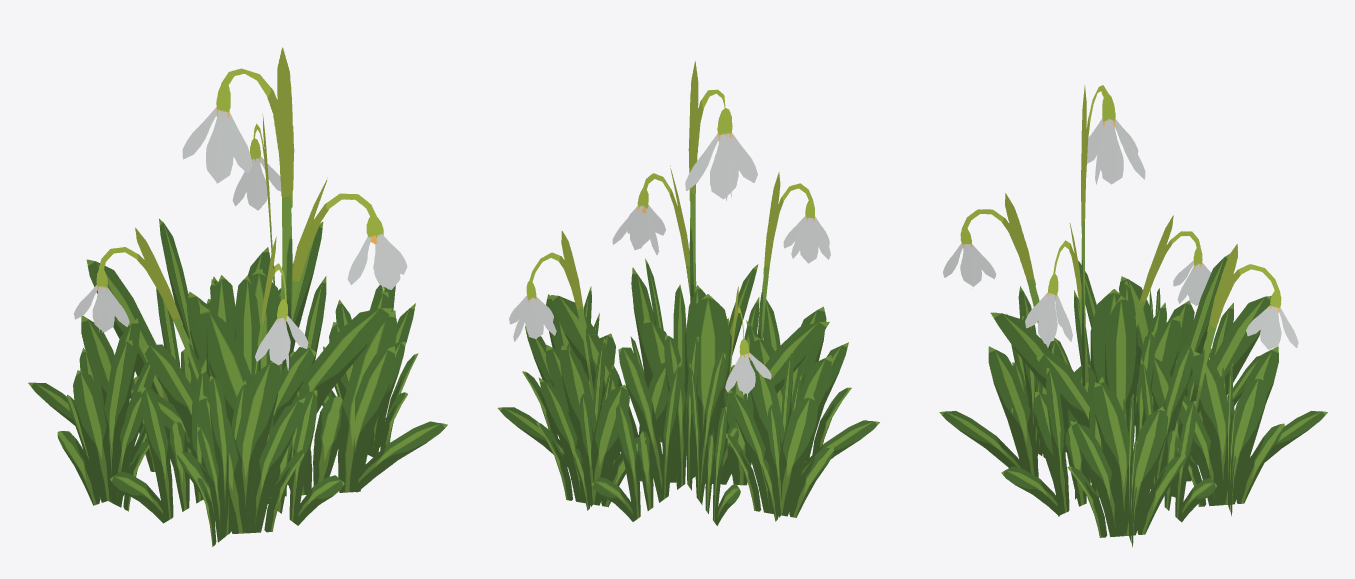
The model's file is SM_Env_Flowers_01.fbx.
3 renders of one model, left to right at view 1: azimuth 30°, elevation 25°; view 2: azimuth 150°, elevation 25°; view 3: azimuth 270°, elevation 25°, orthographic. The views are drawn at different scales.
Visible parts, largest first — view 1: SM_Env_Flowers_01_LOD0; view 2: SM_Env_Flowers_01_LOD0; view 3: SM_Env_Flowers_01_LOD0.
Boxes of the visible parts, <box> form: SM_Env_Flowers_01_LOD0: <box>28,47,447,546</box>; SM_Env_Flowers_01_LOD0: <box>497,61,879,525</box>; SM_Env_Flowers_01_LOD0: <box>939,85,1327,547</box>.
Size of what is drawn, in the model's own units: 54.51 by 64.27 by 59.5.
Materials: 1 (1 with a texture image).
